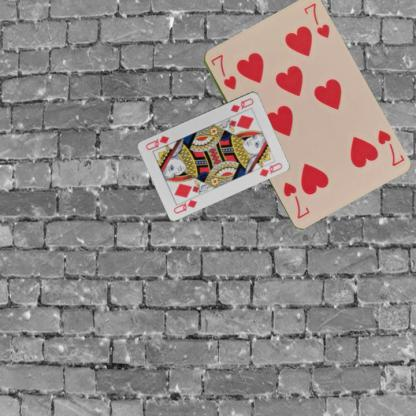7h: (374, 127, 405, 168), (208, 52, 238, 92)
Qd: (171, 193, 198, 215), (228, 96, 255, 113)
